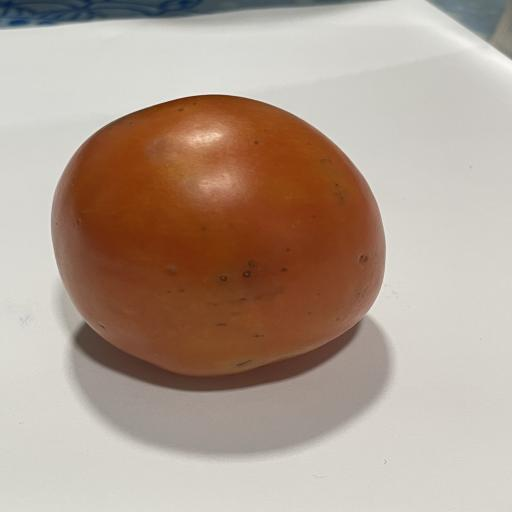unripe: (51, 95, 385, 376)
